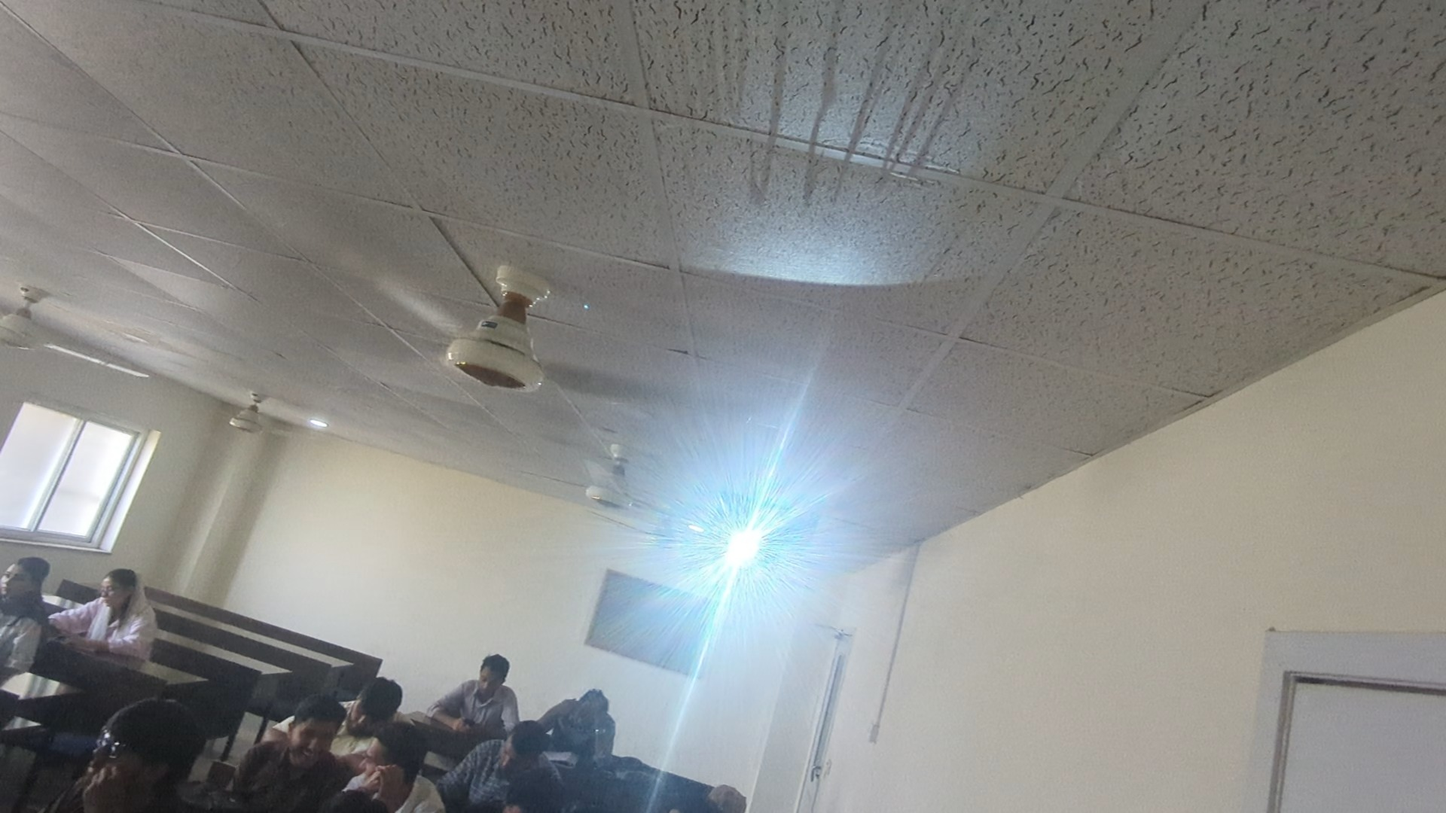look_forward: (97, 715, 200, 793), (3, 559, 68, 674), (292, 684, 341, 788)
read: (551, 682, 601, 769)
sleep: (332, 671, 395, 745)
turn_head: (362, 730, 437, 813)
using_device: (438, 625, 510, 739)
write: (51, 560, 178, 658), (450, 721, 524, 811)
